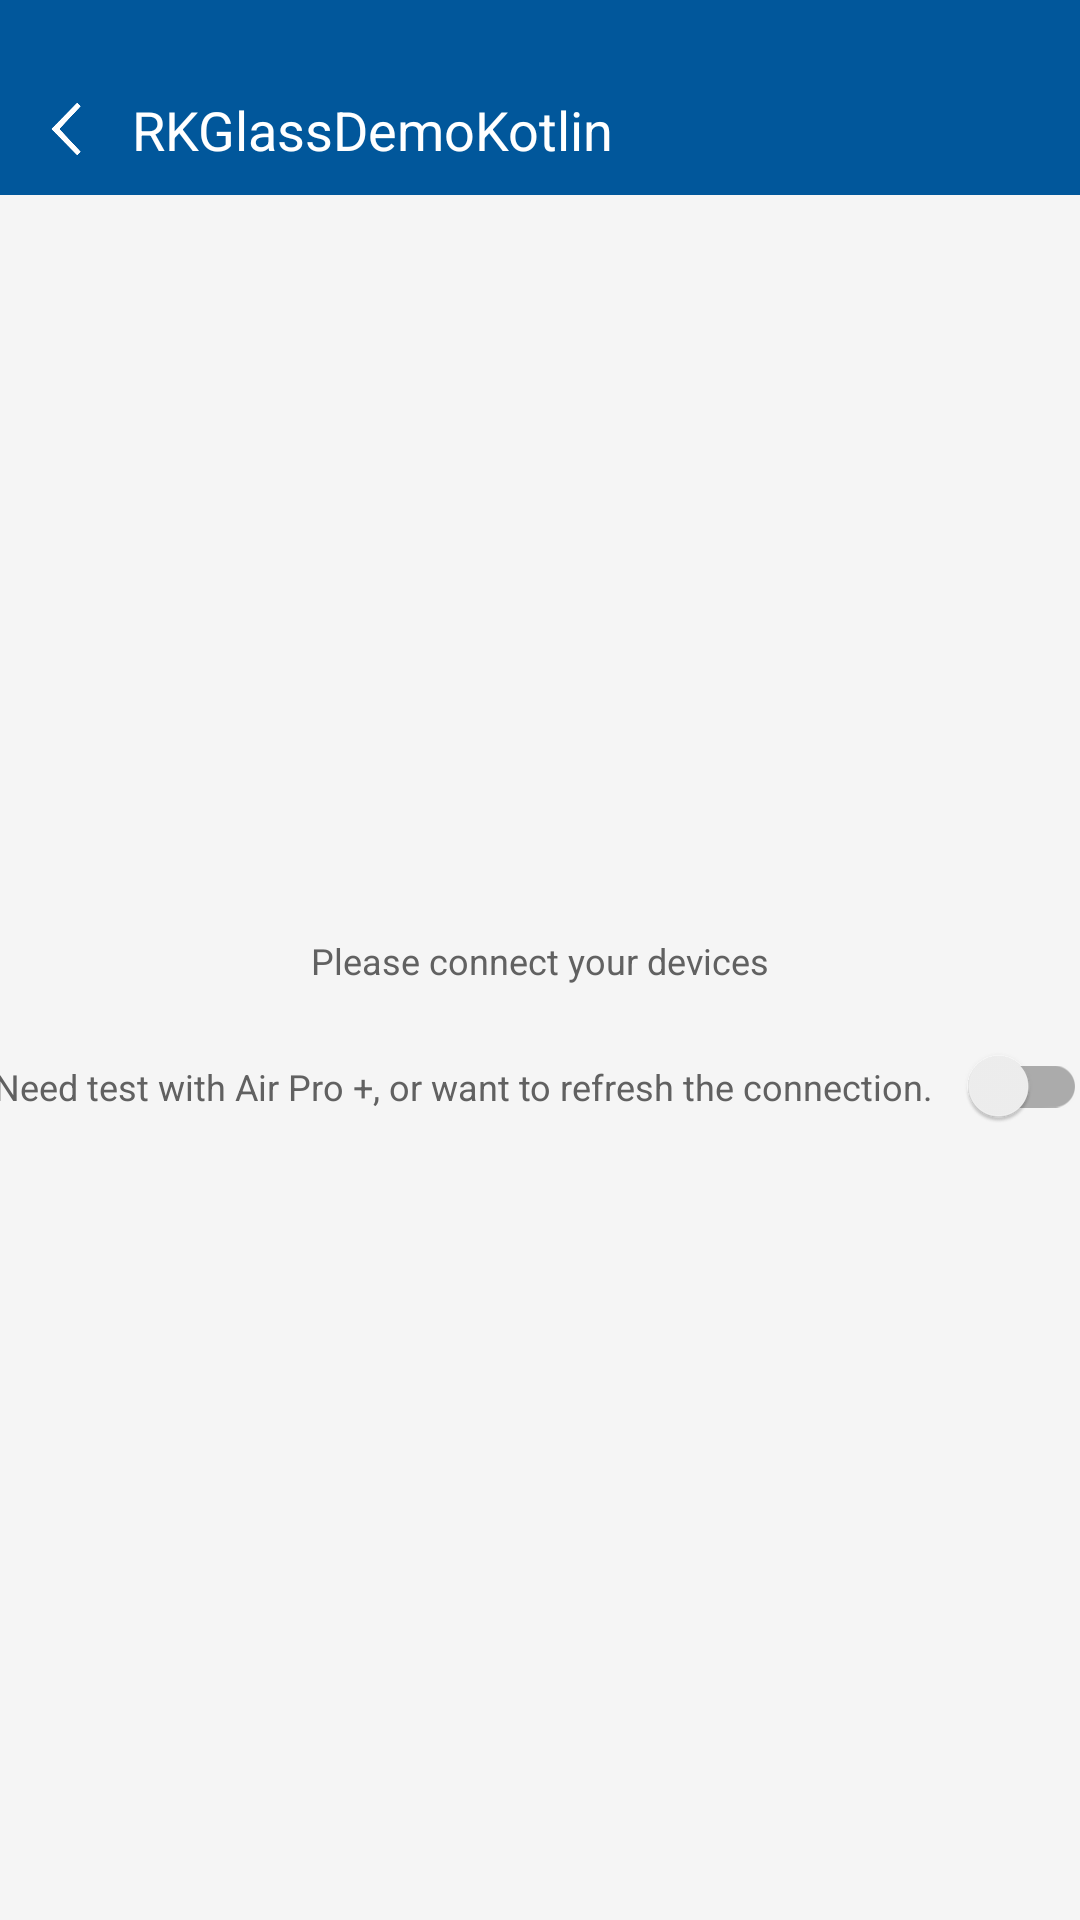

Point at icon controls on the screen. Image size 1080×1920, points as [x,y].
back: [66,129]
